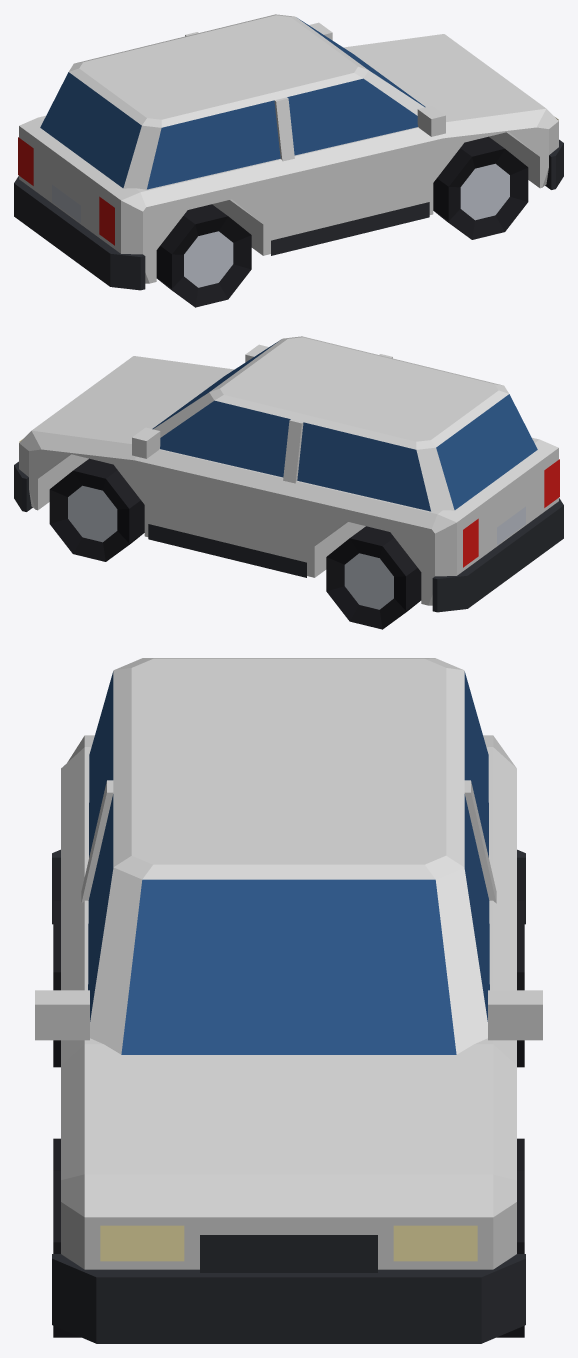
Rendered from hatch.glb.
3 renders of one model, top to bottom at view 1: azimuth 30°, elevation 25°; view 2: azimuth 150°, elevation 25°; view 3: azimuth 270°, elevation 25°, orthographic. The views are drawn at different scales.
Parts seen in each view (by area): view 1: Body; view 2: Body; view 3: Body.
Boxes of the visible parts, box(x1,y1,x2,y2) form: Body: box(14, 14, 563, 307); Body: box(14, 336, 563, 629); Body: box(35, 658, 542, 1343).
Size of the model in its own units: 0.4 by 0.149 by 0.194.
